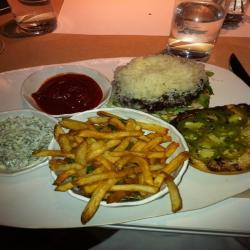burger: (120, 60, 250, 175)
fries: (51, 113, 186, 211)
ketchup: (34, 69, 108, 119)
